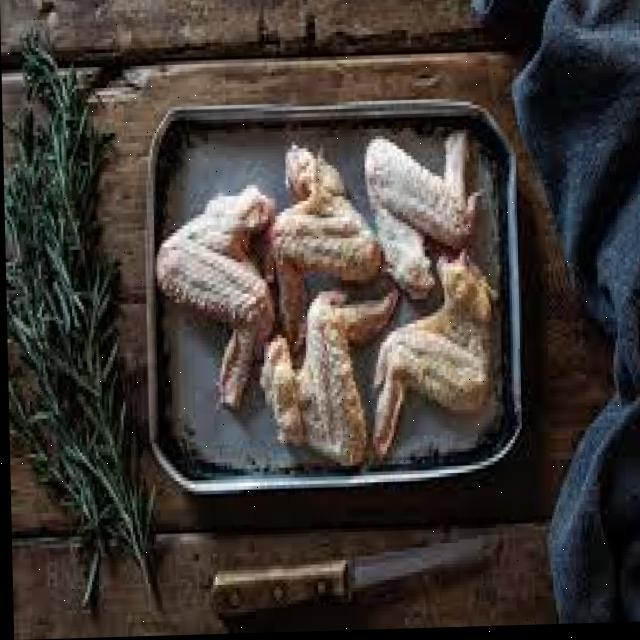wing: (155, 182, 271, 410), (259, 288, 391, 464), (378, 257, 492, 457), (256, 140, 371, 334), (356, 128, 476, 278)
